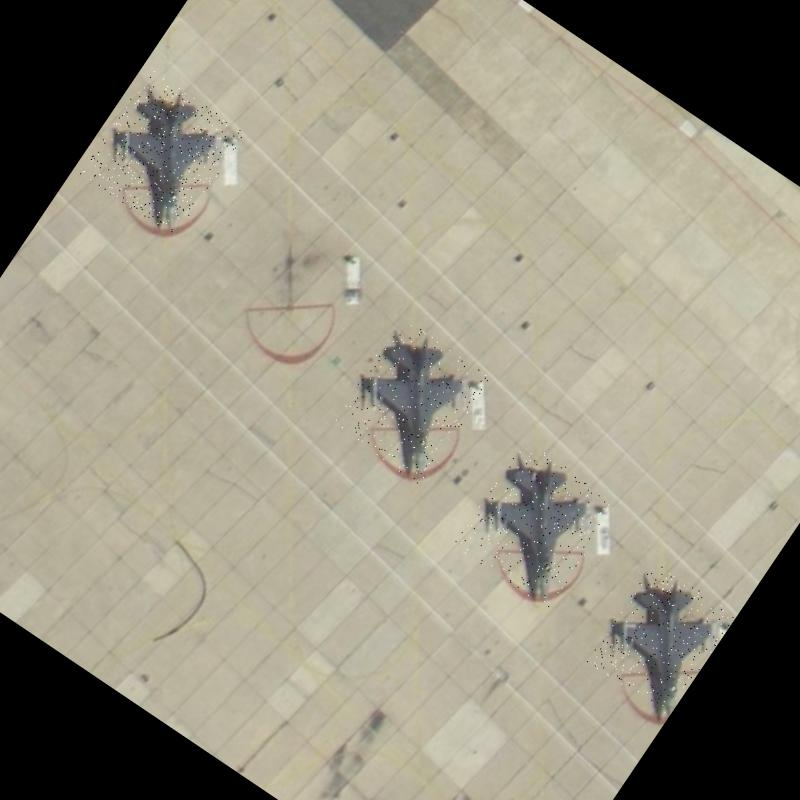A5: (453, 440, 620, 610), (80, 68, 246, 238), (329, 317, 493, 486), (586, 561, 736, 717)
